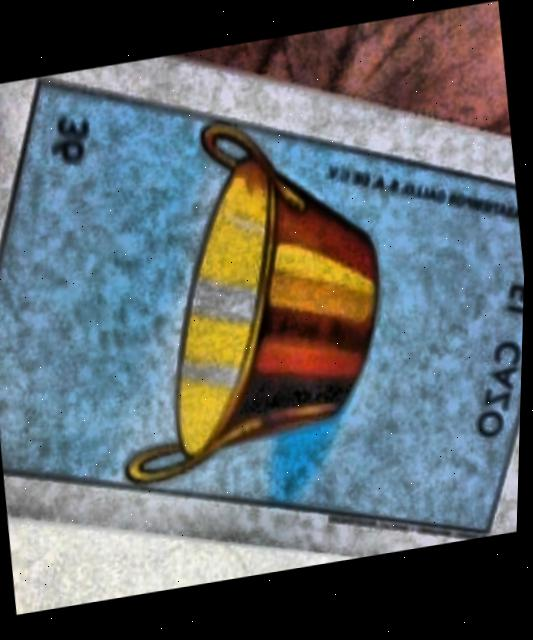El Cazo: (0, 88, 526, 537)
